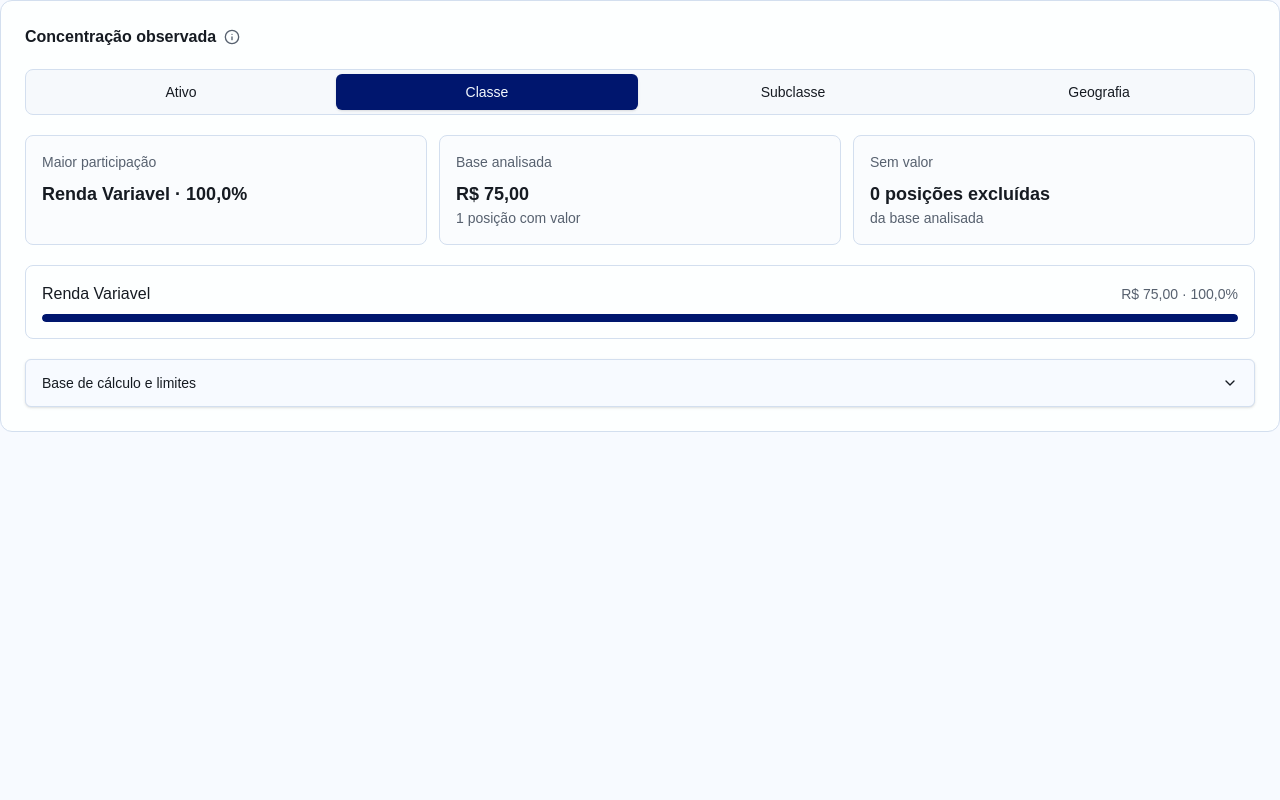
PortfolioConcentrationAnalysis › preserves a reference date that does not use the expected date format
Click the button "Base de cálculo e limites" at point(119, 383), box [25,359,1255,407]
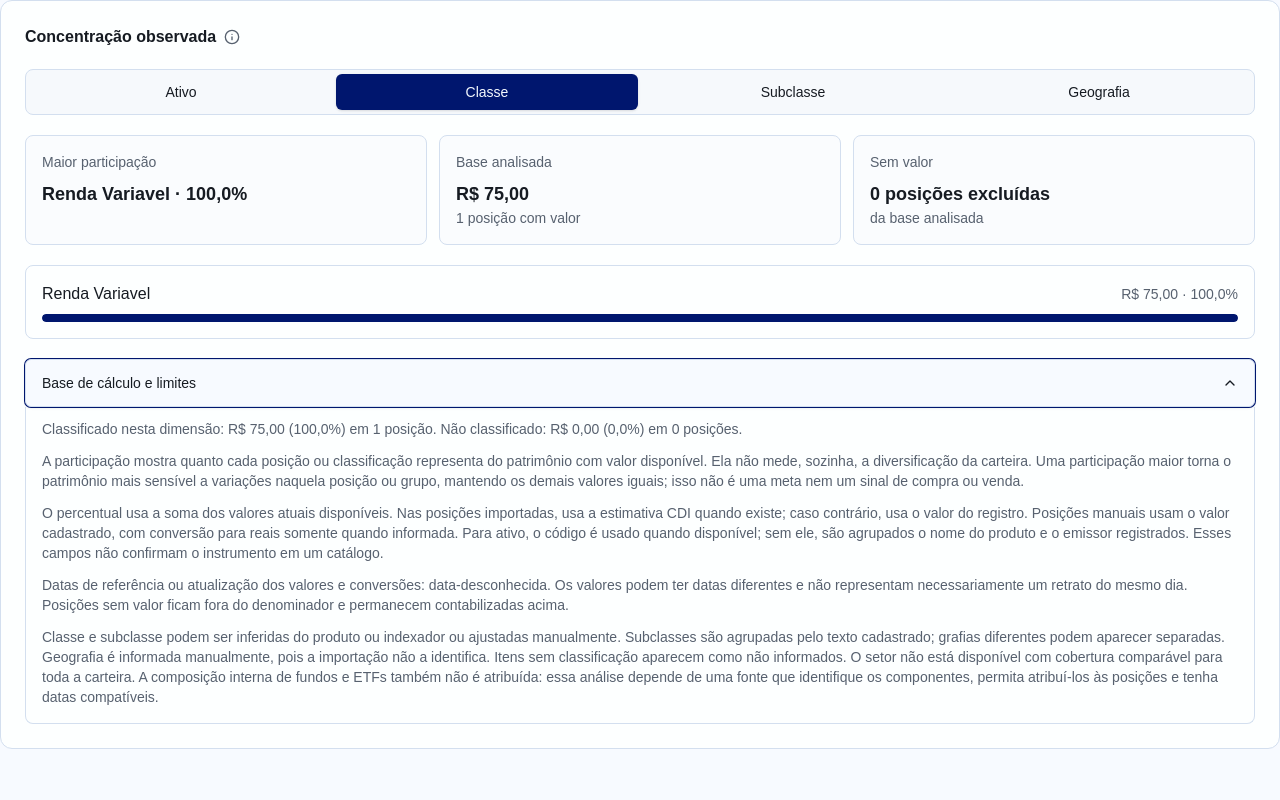
Result: the text "data-desconhecida" is shown at [429,577,547,593]
